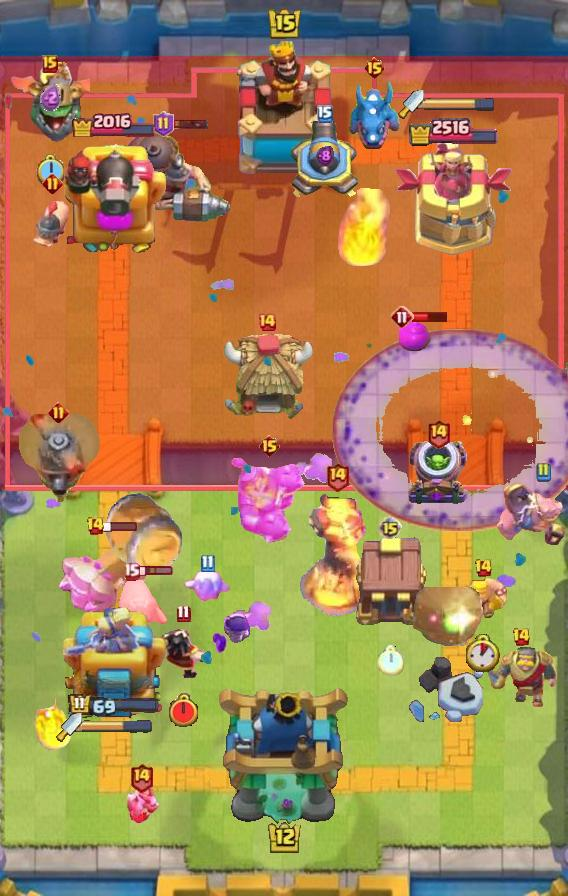archer: (455, 575, 511, 627)
bar: (395, 142, 514, 256), (60, 607, 168, 731)
bomb: (350, 534, 430, 628)
dark-prince: (11, 414, 105, 502)
dirt: (99, 490, 185, 578)
electro-dragon: (298, 491, 376, 619)
electro-spirit: (39, 84, 60, 112), (316, 145, 334, 167)
elixir: (466, 634, 500, 672), (168, 693, 201, 729), (36, 154, 64, 186), (377, 644, 404, 675)
emote: (411, 310, 448, 323), (171, 118, 209, 130), (138, 565, 175, 577), (102, 520, 138, 532)
executioner: (31, 197, 73, 255)
firecracker: (486, 647, 557, 707)
freeze: (494, 481, 568, 549)
furnace: (56, 522, 166, 628)
goblin: (225, 612, 251, 646)
goblin-cage: (406, 437, 470, 507)
graveyard: (346, 79, 402, 153)
king-tower: (216, 684, 352, 826), (228, 41, 340, 181)
king-tower-bar: (424, 97, 496, 111), (82, 720, 152, 734)
lumberjack: (157, 627, 209, 681)
miner: (399, 321, 431, 351)
mirror: (182, 567, 232, 605)
night-witch: (9, 62, 91, 142)
prince: (220, 332, 314, 422)
rocket: (332, 328, 568, 532)
royal-delivery: (121, 782, 161, 824)
royal-guardian: (230, 456, 308, 546)
royal-recruit: (289, 119, 361, 203)
selected: (407, 116, 499, 147), (71, 111, 157, 138), (68, 693, 160, 718)
tesla: (119, 576, 171, 628)
text: (426, 419, 451, 449), (325, 461, 350, 491), (130, 763, 154, 794), (390, 305, 414, 329), (378, 516, 402, 540), (363, 56, 386, 80), (258, 434, 281, 458), (153, 111, 174, 137), (41, 173, 62, 195), (48, 401, 69, 422), (257, 312, 277, 332), (86, 516, 106, 536), (512, 627, 532, 647), (475, 558, 494, 578), (535, 462, 551, 482), (123, 563, 140, 581), (42, 55, 58, 73), (317, 105, 333, 123), (177, 605, 192, 623), (201, 554, 215, 573)
tower-bar: (60, 138, 168, 256)
valkyrie: (332, 185, 390, 271), (32, 688, 74, 754)
wizard: (124, 127, 236, 225)
x-bow: (408, 587, 494, 649)
